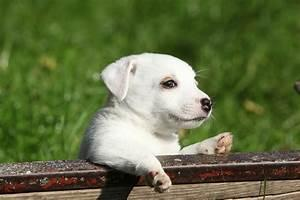dog: (77, 51, 233, 193)
